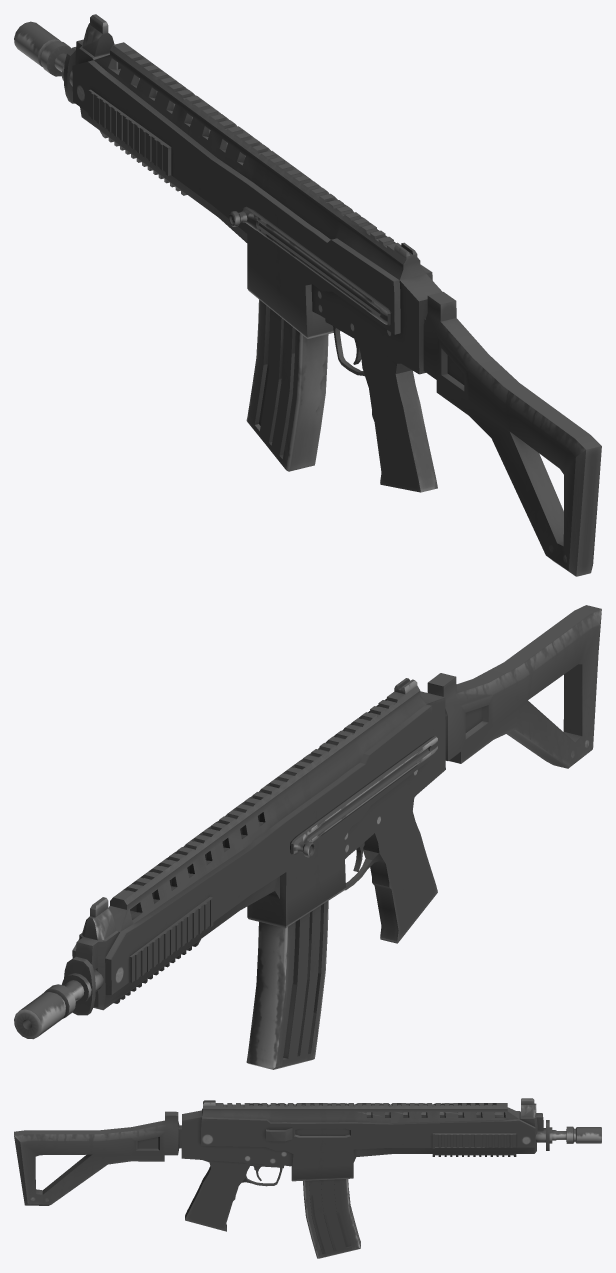
Rendered from Fuzil.fbx.
3 views of the same model, one above another, from view 1: azimuth 30°, elevation 25°; view 2: azimuth 150°, elevation 25°; view 3: azimuth 270°, elevation 25° (orthographic). The views are drawn at different scales.
Parts seen in each view (by area): view 1: Body, Magazine, Pump; view 2: Body, Magazine, Pump; view 3: Body, Magazine.
Part boxes in pixels (x1,y1,x2,y2): Body: (14,14,601,576); Magazine: (246,299,328,471); Pump: (229,206,391,325); Body: (14,605,601,1039); Magazine: (246,901,328,1069); Pump: (290,736,437,857); Body: (14,1098,601,1231); Magazine: (303,1179,360,1258).
Bounding box in the file's own units: 56.3 × 242 × 824.
